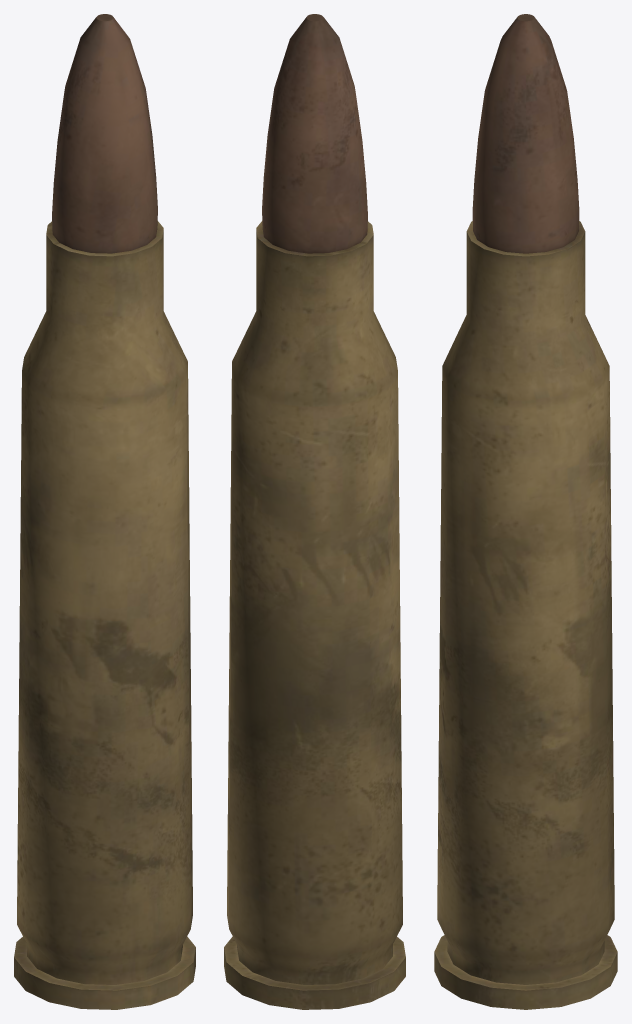
3 renders of one model, left to right at view 1: azimuth 30°, elevation 25°; view 2: azimuth 150°, elevation 25°; view 3: azimuth 270°, elevation 25°, orthographic.
Visible parts, largest first — view 1: 5.56; view 2: 5.56; view 3: 5.56.
Boxes of the visible parts, box(x1,y1,x2,y2) form: 5.56: box(14, 14, 195, 1009); 5.56: box(224, 14, 405, 1009); 5.56: box(434, 14, 617, 1009).
Bounding box in the file's own units: 0.1908 × 1.09 × 0.1908.
1 material, 1 textured.
